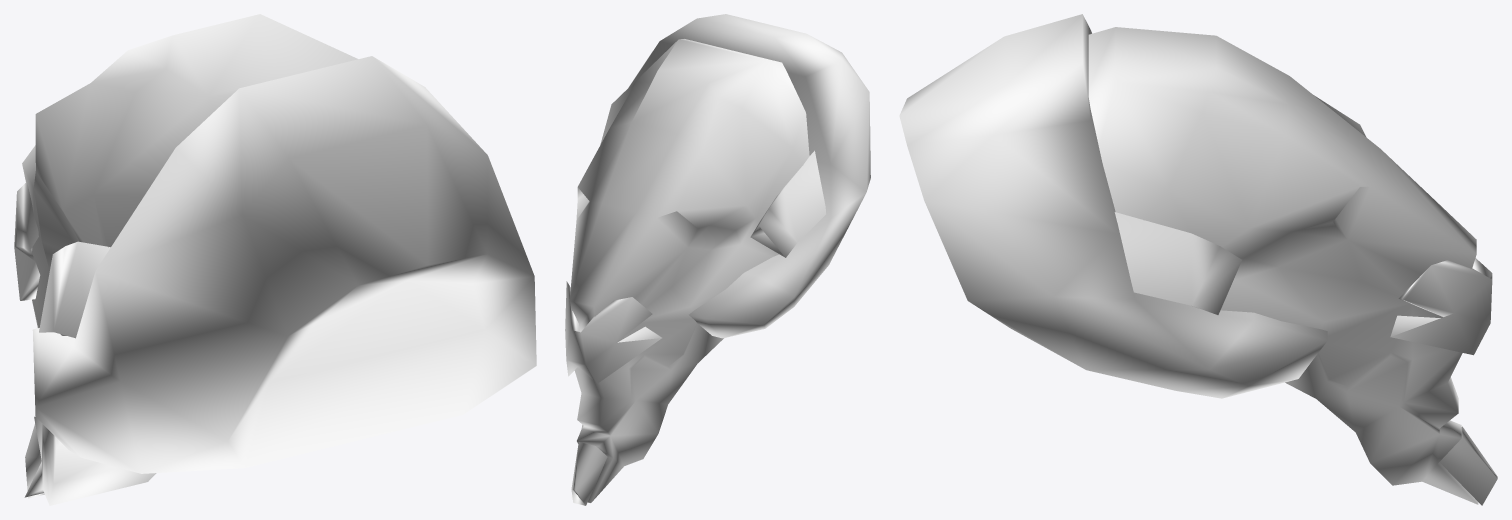
Rendered from icon.ico.obj.
3 renders of one model, left to right at view 1: azimuth 30°, elevation 25°; view 2: azimuth 150°, elevation 25°; view 3: azimuth 270°, elevation 25°, orthographic. The views are drawn at different scales.
Bounding box in the file's own units: 2.72 × 3.93 × 4.6.
Materials: 1 (1 with a texture image).
